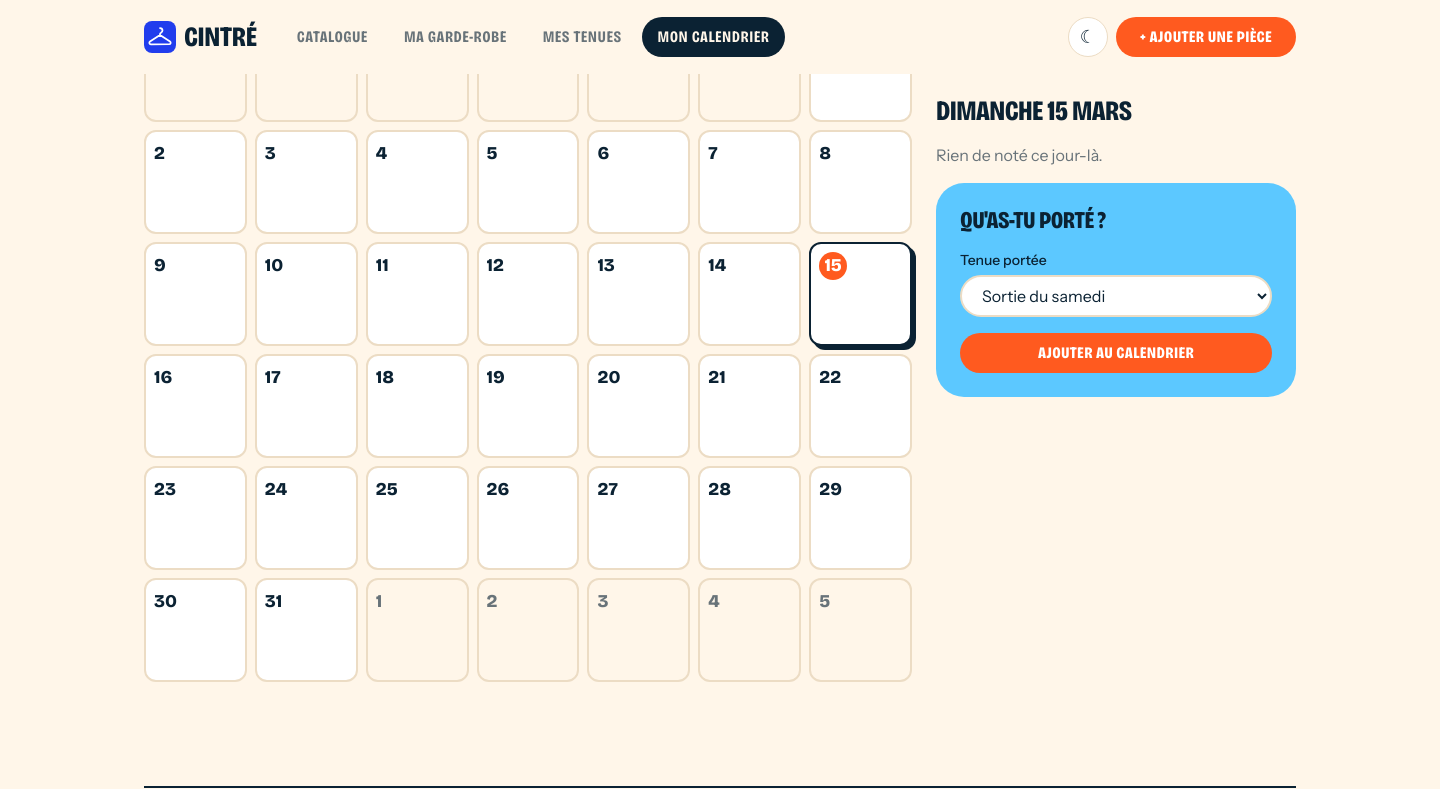
Test case: Calendrier : prévoir une tenue › enregistre la tenue comme prévue sans marquer les pièces comme portées
(page scrolled)
Click the button "18" at (417, 406), box top-left (366, 354), bottom-right (469, 458)
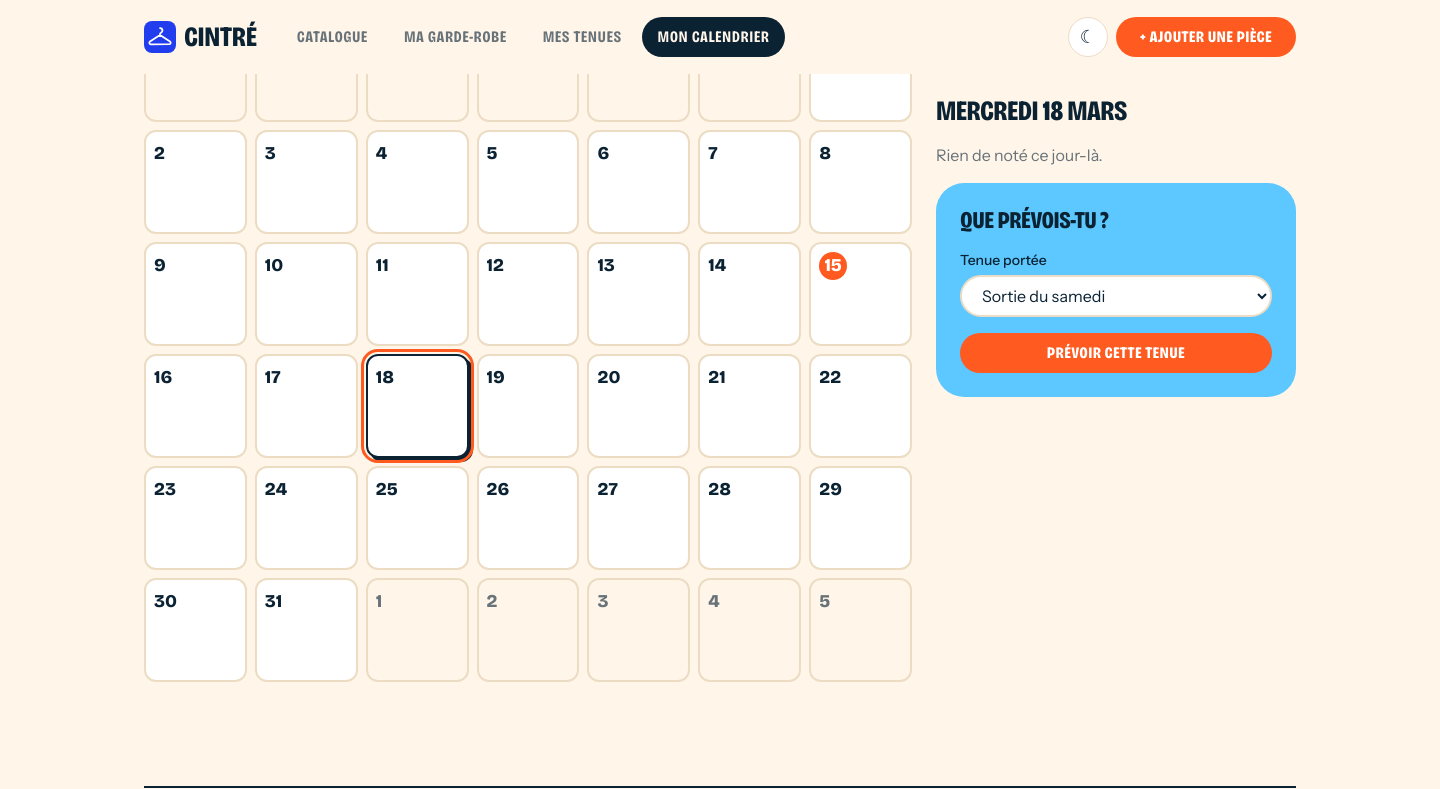
Click the button "Prévoir cette tenue" at (1116, 352), box top-left (960, 332), bottom-right (1272, 372)
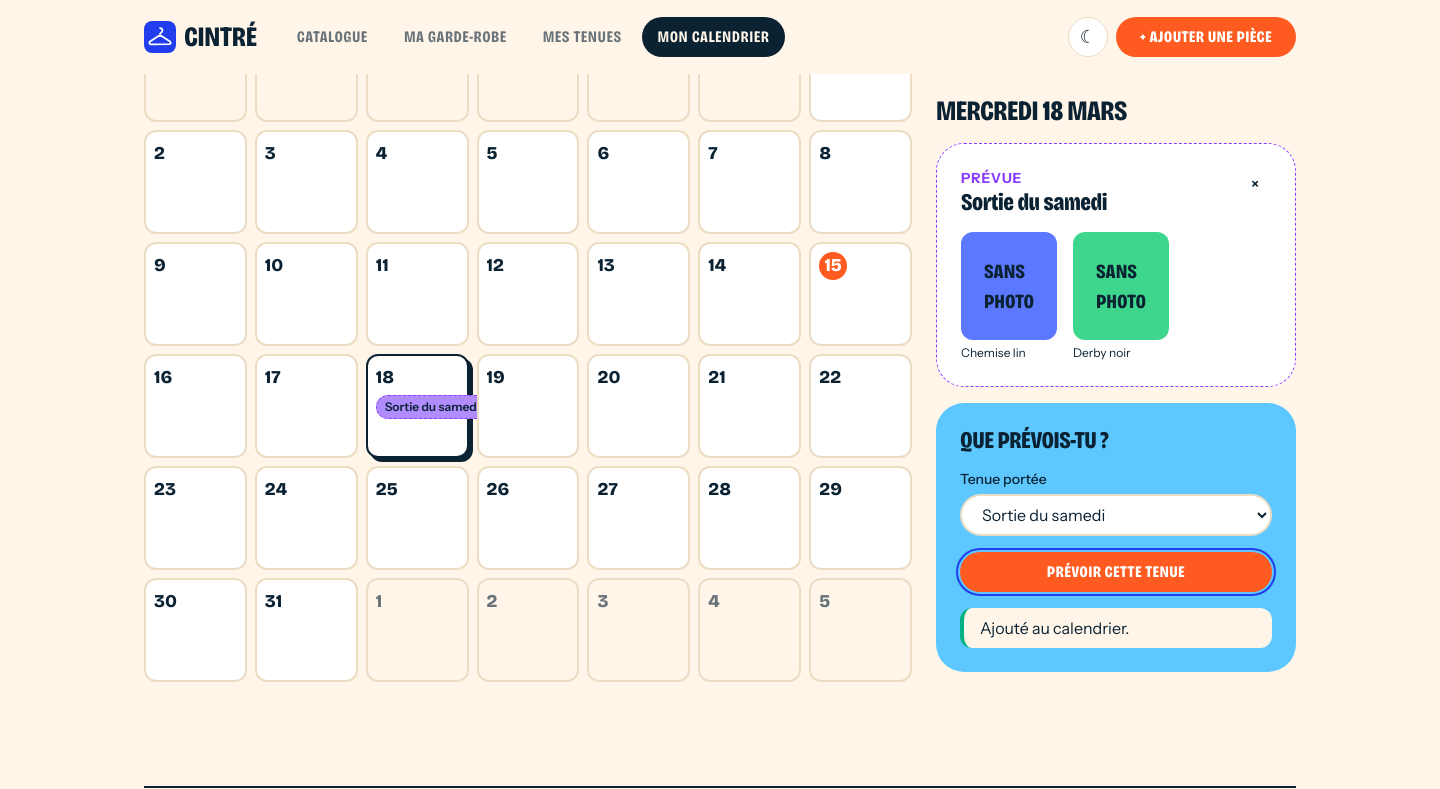
Expected: the text "Prévue" is shown, top-left (961, 169), bottom-right (1022, 187)
